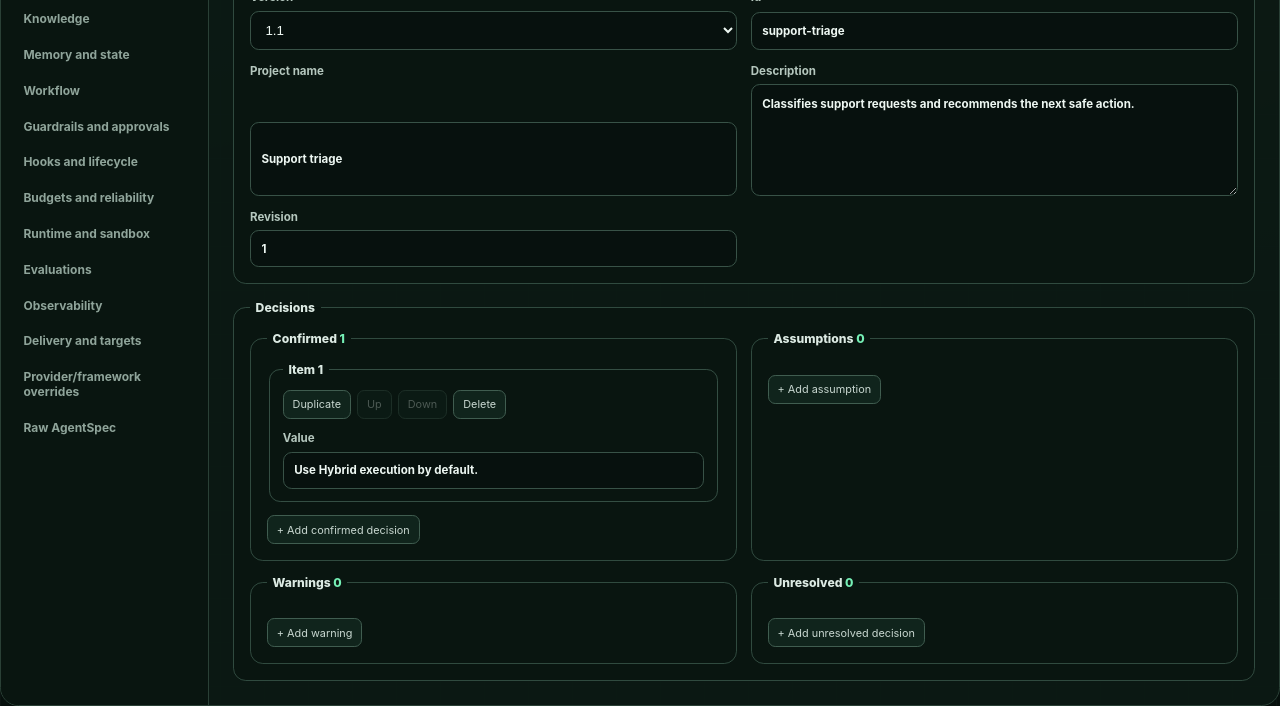
Test case: AdvancedStudio › keeps the raw AgentSpec editor available
(page scrolled)
Click the button "Raw AgentSpec".
click(104, 427)  # box x1=11 y1=410 x2=198 y2=445
(page scrolled)
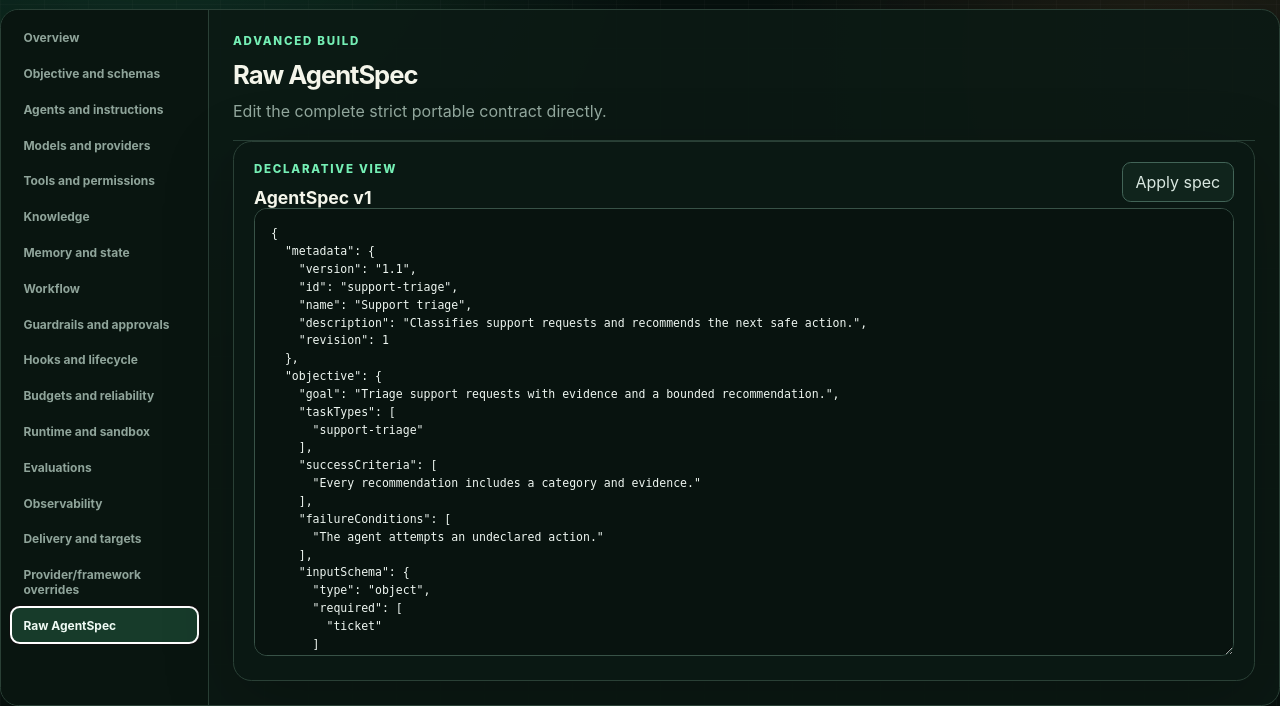
Expected: the text box named "Agent spec" is shown, x1=254 y1=208 x2=1234 y2=656
